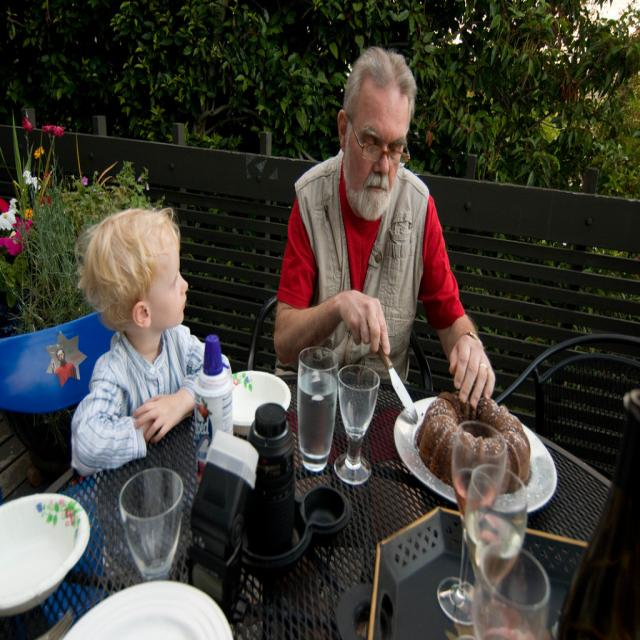non-organic waste: (0, 491, 83, 612)
